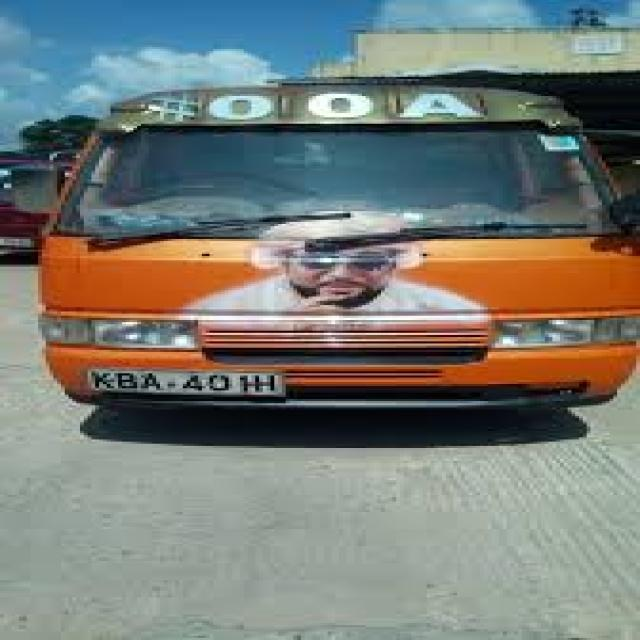matatu: (20, 38, 640, 443)
